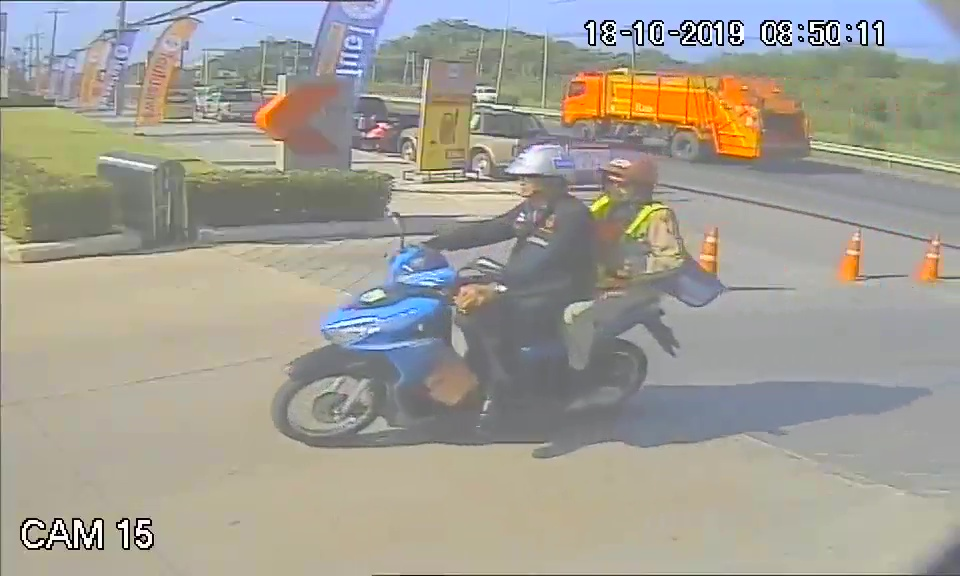motorcycle: (266, 239, 677, 446)
